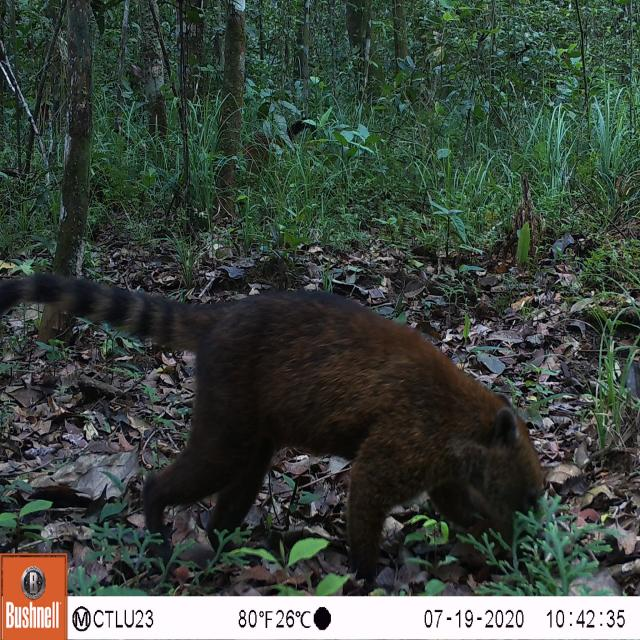South American Coati: (0, 215, 573, 591)
